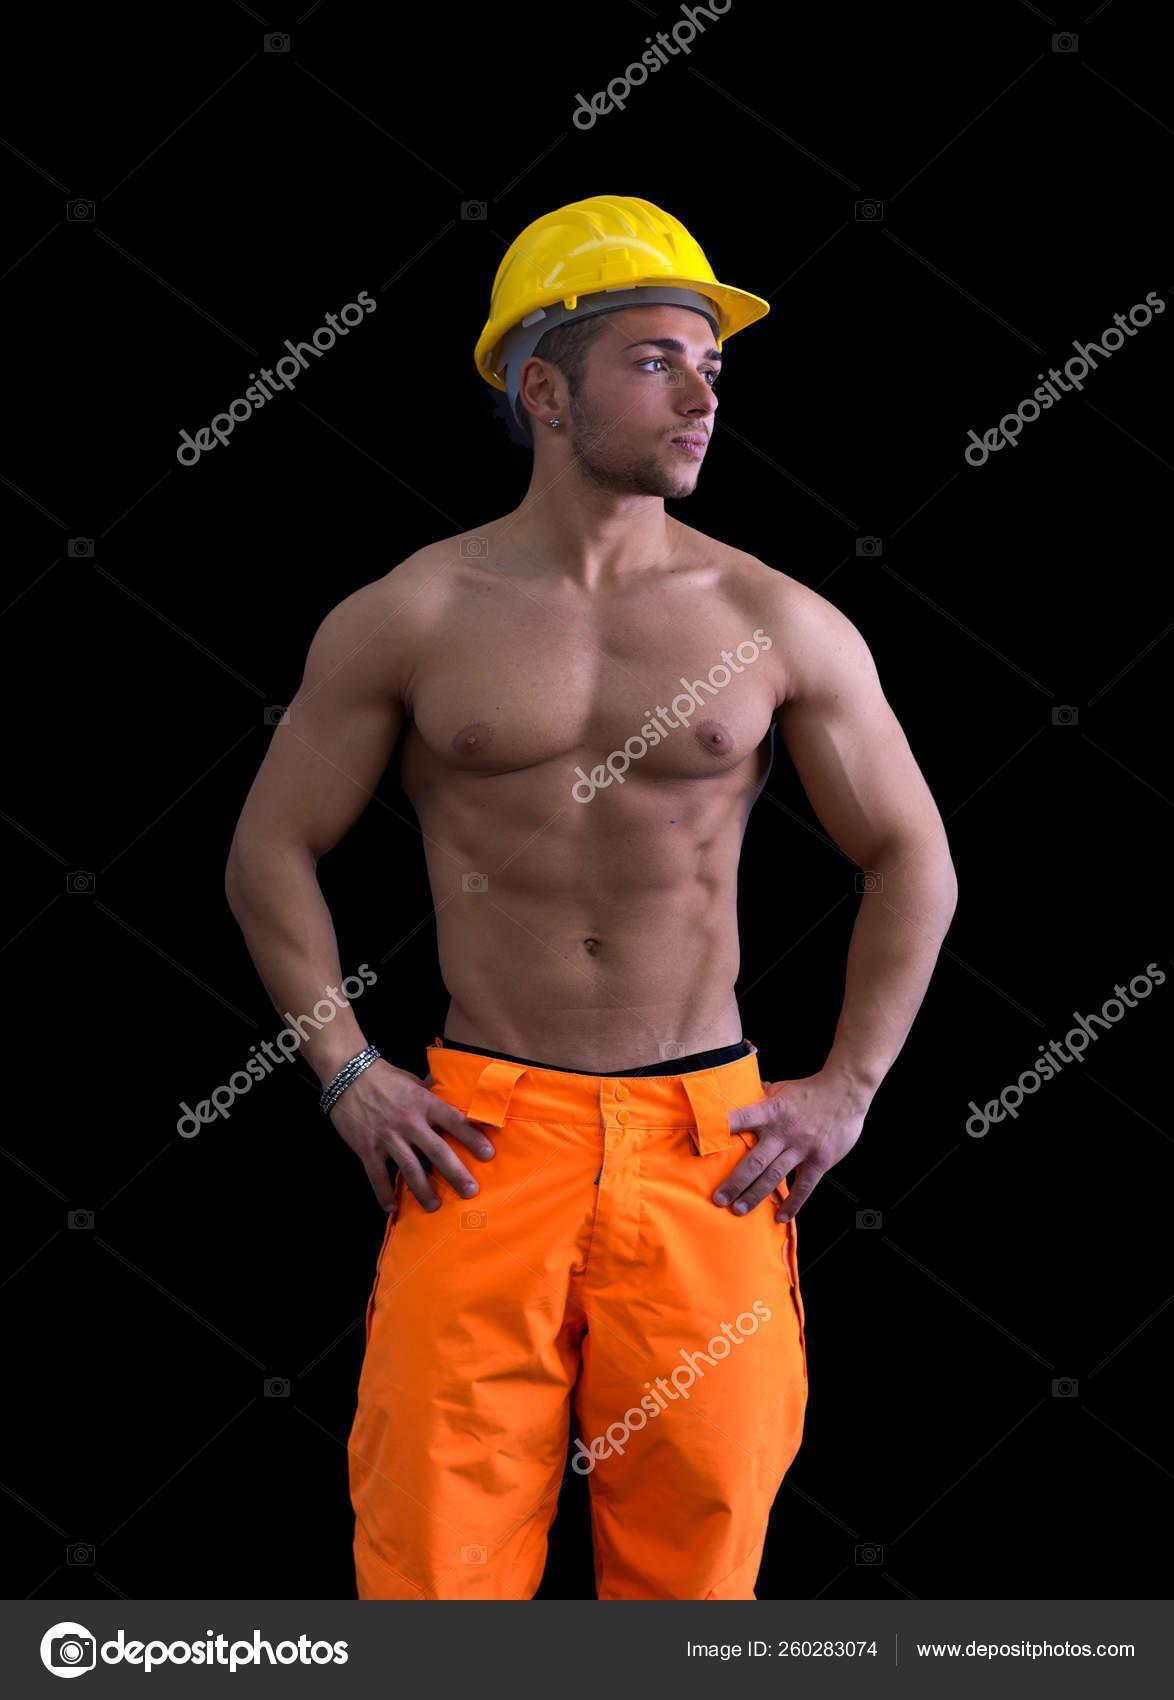hardhat: (485, 194, 774, 388)
worker: (213, 192, 964, 1601)
